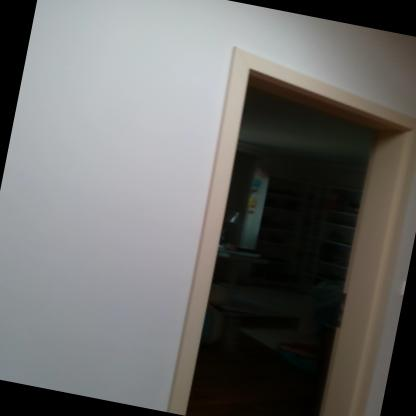open: (138, 30, 415, 415)
